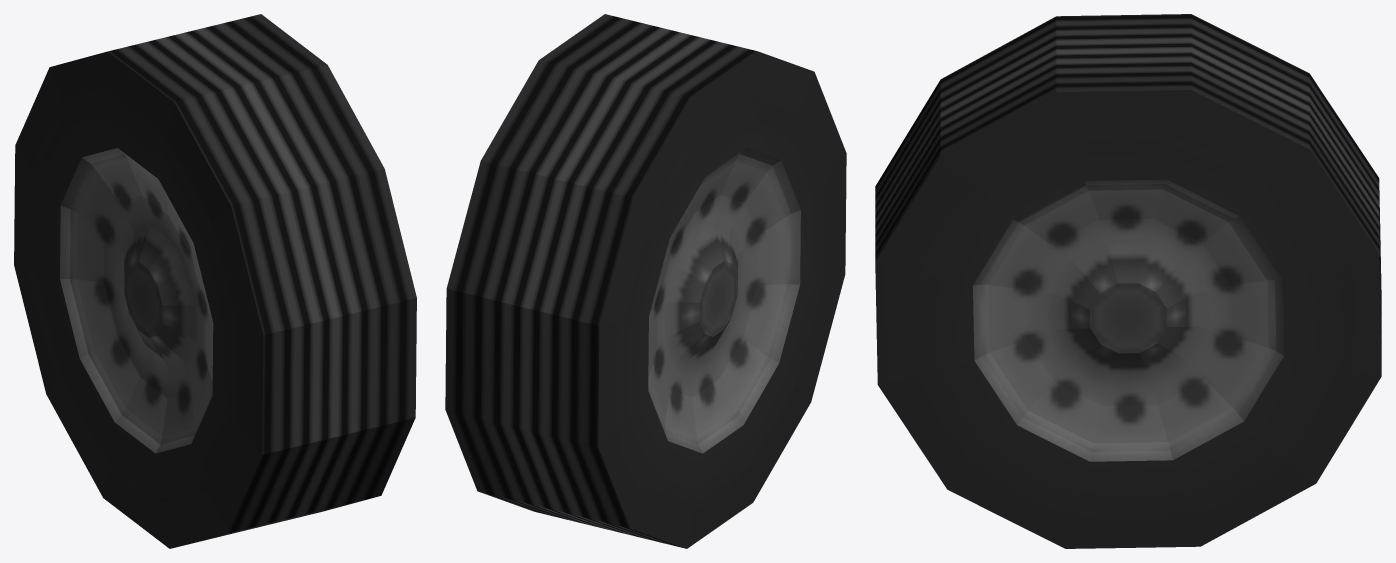
File: D25WheelB.fbx
3 renders of one model, left to right at view 1: azimuth 30°, elevation 25°; view 2: azimuth 150°, elevation 25°; view 3: azimuth 270°, elevation 25°, orthographic.
Parts seen in each view (by area): view 1: GavrilWheel.002; view 2: GavrilWheel.002; view 3: GavrilWheel.002.
Boxes of the visible parts, x1,y1,x2,y2 form: GavrilWheel.002: (14,14,416,548); GavrilWheel.002: (445,14,846,548); GavrilWheel.002: (875,14,1381,548).
Bounding box in the file's own units: 0.3644 × 0.9961 × 0.9961.
